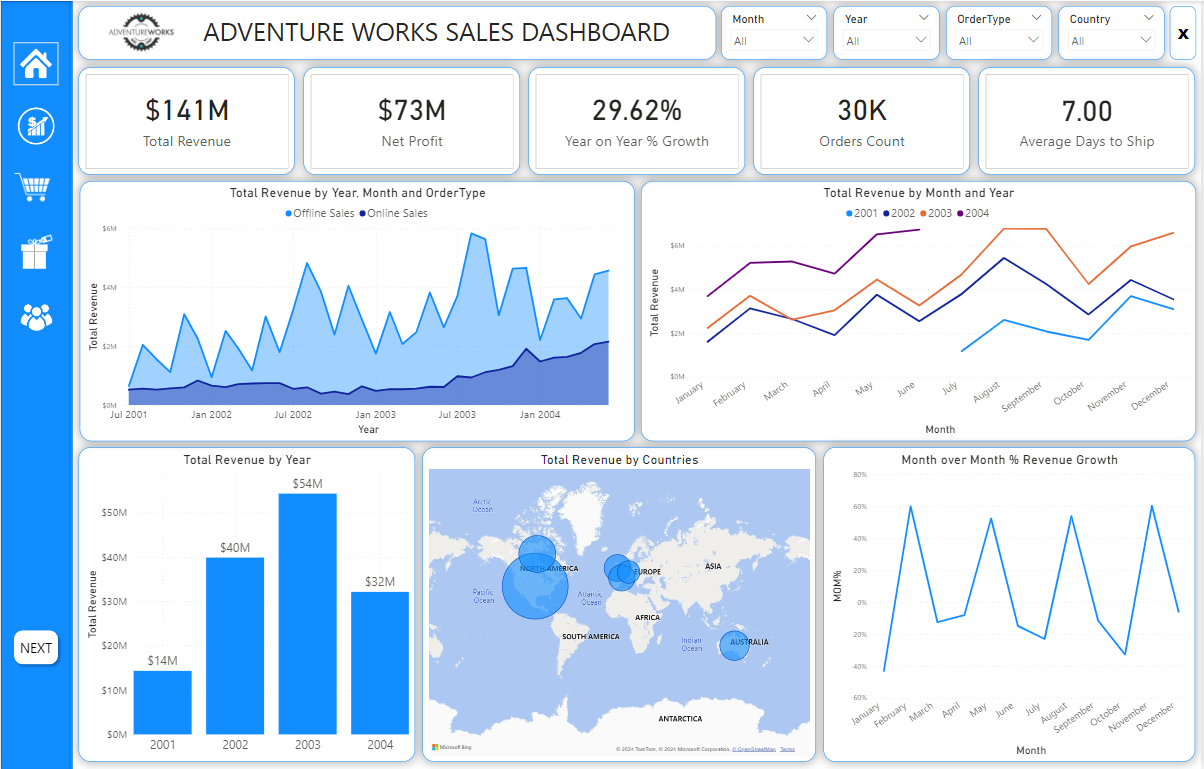

Layout of this report page (visuals, bound fields, positions):
{"tool":"powerbi","page":{"name":"Sales Analysis Overview","canvas":[2000,1280],"ordinal":0},"visuals":[{"type":"group","id":"g1","title":"Group 1","box":[129.2,8.3,1062.5,89.6],"z":0,"group":"g2"},{"type":"textbox","box":[129.2,8.3,1062.5,89.6],"z":0,"group":"g1"},{"type":"image","box":[21.4,68.2,75,70],"z":0,"group":"g4"},{"type":"map","title":"Total Revenue by Countries","fields":{"Category":["DimSalesTerritory.Name"],"Size":["_Measures.Total Revenue"]},"box":[702.4,743.9,656.1,524.4],"z":0},{"type":"slicer","title":"Month","fields":{"Values":["DimDate.Date.Variation.Date Hierarchy.Month"]},"box":[1200,8.3,177.1,89.6],"z":1000},{"type":"cardVisual","title":"Total Revenue","fields":{"Data":["FactSales.Total Revenue"]},"box":[128.4,110.4,360,179.4],"z":2000},{"type":"lineClusteredColumnComboChart","fields":{"Category":["DimDate.Date.Variation.Date Hierarchy.Year"],"Y":["_Measures.Total Revenue"]},"box":[129.3,743.9,561,524.4],"z":3000},{"type":"group","id":"g2","title":"Group 2","box":[129.2,8.3,1062.5,89.6],"z":4000},{"type":"cardVisual","title":"Total Revenue","fields":{"Data":["FactSales.OrdercOunt"]},"box":[1253.9,110.4,360.4,179.2],"z":5000},{"type":"areaChart","fields":{"Y":["FactSales.Total Revenue"],"Series":["FactSales.OrderType"],"Category":["DimDate.Date.Variation.Date Hierarchy.Year","DimDate.Date.Variation.Date Hierarchy.Month"]},"box":[131.3,300,925,433.3],"z":6000},{"type":"shape","box":[0,0,119.5,1280.5],"z":7000},{"type":"lineChart","fields":{"Y":["FactSales.Total Revenue"],"Category":["DimDate.Date.Variation.Date Hierarchy.Month"],"Series":["DimDate.Date.Variation.Date Hierarchy.Year"]},"box":[1066.7,300,925,433.3],"z":8000},{"type":"shape","box":[0,0,115,1281.3],"z":9000},{"type":"lineChart","title":"Month over Month % Revenue Growth","fields":{"Y":["_Measures.MOM%"],"Category":["DimDate.Date.Variation.Date Hierarchy.Month"]},"box":[1370.7,743.9,619.5,524.4],"z":10000},{"type":"slicer","fields":{"Values":["FactSales.OrderType"]},"box":[1575,8.3,177.1,89.6],"z":11000},{"type":"image","box":[160.6,15.6,147.3,75.1],"z":11000,"group":"g1"},{"type":"cardVisual","title":"Total Revenue","fields":{"Data":["_Measures.YOY%"]},"box":[878.6,110.4,360.4,179.2],"z":12000},{"type":"slicer","fields":{"Values":["DimDate.Date.Variation.Date Hierarchy.Year"]},"box":[1387.5,8.3,177.1,89.6],"z":13000},{"type":"group","id":"g3","title":"Group 3","box":[27.2,495.1,63.4,63.4],"z":14000},{"type":"group","id":"g4","title":"Group 4","box":[21.4,68.2,75,70],"z":15000},{"type":"group","id":"g5","title":"Group 5","box":[15,170.7,87.8,73.2],"z":16000},{"type":"group","id":"g6","title":"Group 6","box":[15.8,274.3,70.7,70.7],"z":17000},{"type":"image","box":[16.3,382.9,85.4,70.7],"z":18000},{"type":"image","box":[15,170.7,88,75],"z":19000,"group":"g5"},{"type":"image","box":[27.2,495.1,63.4,63.4],"z":19000,"group":"g3"},{"type":"shape","box":[12.5,1039.6,91.7,75],"z":19000},{"type":"image","box":[15.8,274.3,70.7,70.7],"z":19001,"group":"g6"},{"type":"actionButton","box":[1947.9,8.3,43.8,89.6],"z":20000},{"type":"slicer","fields":{"Values":["DimSalesTerritory.Name"]},"box":[1762.5,8.3,177.1,89.6],"z":21000},{"type":"cardVisual","title":"Total Revenue","fields":{"Data":["FactSales.Net Profit"]},"box":[503.3,110.4,360.4,179.2],"z":22000},{"type":"cardVisual","title":"Total Revenue","fields":{"Data":["FactSales.Avg. Days to Ship"]},"box":[1629.2,110.4,360.4,179.2],"z":23000}]}

Visuals, with their boxes on the page's 2000x1280 design canvas (x1, y1, x2, y2). These are canvas units, not pixel positions in the 1204x769 screenshot, which may show the page scaled, cropped or inside an application window:
"Group 1" group: l=129, t=8, r=1192, b=98
textbox: l=129, t=8, r=1192, b=98
image: l=21, t=68, r=96, b=138
"Total Revenue by Countries" map: l=702, t=744, r=1358, b=1268
"Month" slicer: l=1200, t=8, r=1377, b=98
"Total Revenue" cardVisual: l=128, t=110, r=488, b=290
lineClusteredColumnComboChart - DimDate.Date.Variation.Date Hierarchy.Year x _Measures.Total Revenue: l=129, t=744, r=690, b=1268
"Group 2" group: l=129, t=8, r=1192, b=98
"Total Revenue" cardVisual: l=1254, t=110, r=1614, b=290
areaChart - FactSales.Total Revenue x FactSales.OrderType: l=131, t=300, r=1056, b=733
shape: l=0, t=0, r=120, b=1280
lineChart - FactSales.Total Revenue x DimDate.Date.Variation.Date Hierarchy.Month: l=1067, t=300, r=1992, b=733
shape: l=0, t=0, r=115, b=1281
"Month over Month % Revenue Growth" lineChart: l=1371, t=744, r=1990, b=1268
slicer - FactSales.OrderType: l=1575, t=8, r=1752, b=98
image: l=161, t=16, r=308, b=91
"Total Revenue" cardVisual: l=879, t=110, r=1239, b=290
slicer - DimDate.Date.Variation.Date Hierarchy.Year: l=1388, t=8, r=1565, b=98
"Group 3" group: l=27, t=495, r=91, b=558
"Group 4" group: l=21, t=68, r=96, b=138
"Group 5" group: l=15, t=171, r=103, b=244
"Group 6" group: l=16, t=274, r=86, b=345
image: l=16, t=383, r=102, b=454
image: l=15, t=171, r=103, b=246
image: l=27, t=495, r=91, b=558
shape: l=12, t=1040, r=104, b=1115
image: l=16, t=274, r=86, b=345
actionButton: l=1948, t=8, r=1992, b=98
slicer - DimSalesTerritory.Name: l=1762, t=8, r=1940, b=98
"Total Revenue" cardVisual: l=503, t=110, r=864, b=290
"Total Revenue" cardVisual: l=1629, t=110, r=1990, b=290
